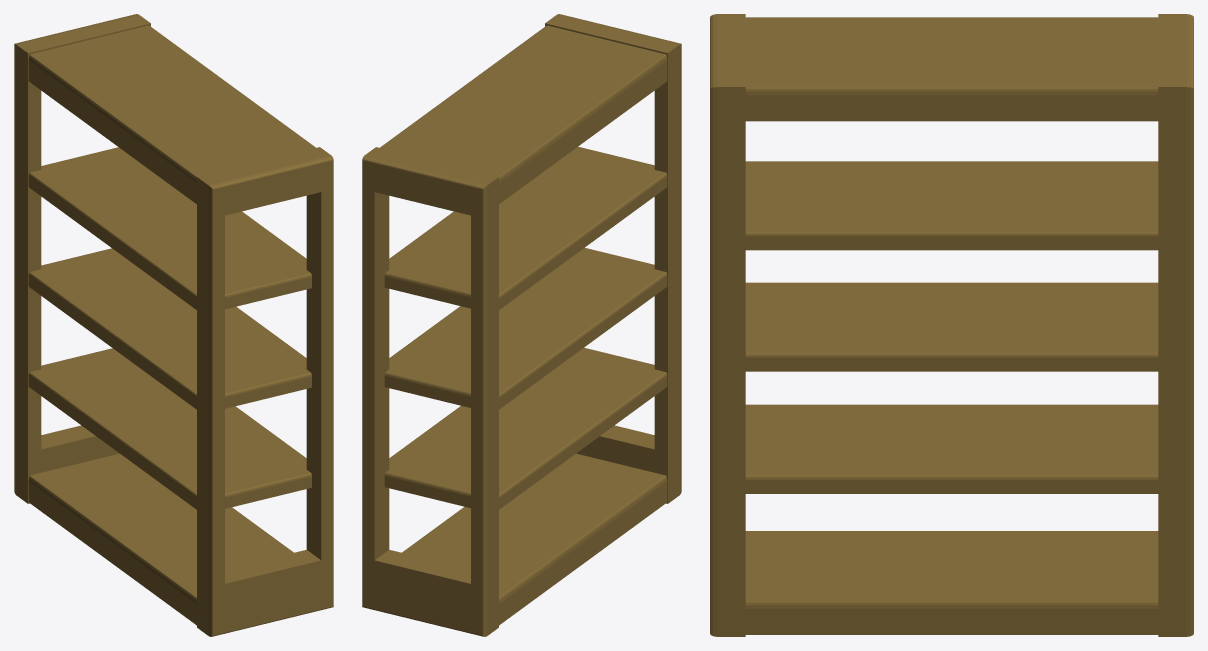
The model's file is shelf_1 1.fbx.
3 views of the same model, side by side, from view 1: azimuth 30°, elevation 25°; view 2: azimuth 150°, elevation 25°; view 3: azimuth 270°, elevation 25° (orthographic). The views are drawn at different scales.
Parts seen in each view (by area): view 1: sketchfab_render:polySurface9polySurface81; view 2: sketchfab_render:polySurface9polySurface81; view 3: sketchfab_render:polySurface9polySurface81.
Part boxes in pixels (left/top/right/bottom): sketchfab_render:polySurface9polySurface81: left=14, top=14, right=333, bottom=636; sketchfab_render:polySurface9polySurface81: left=362, top=14, right=681, bottom=636; sketchfab_render:polySurface9polySurface81: left=710, top=14, right=1193, bottom=636.
Size of the model in its own units: 468 by 1641 by 1309.
